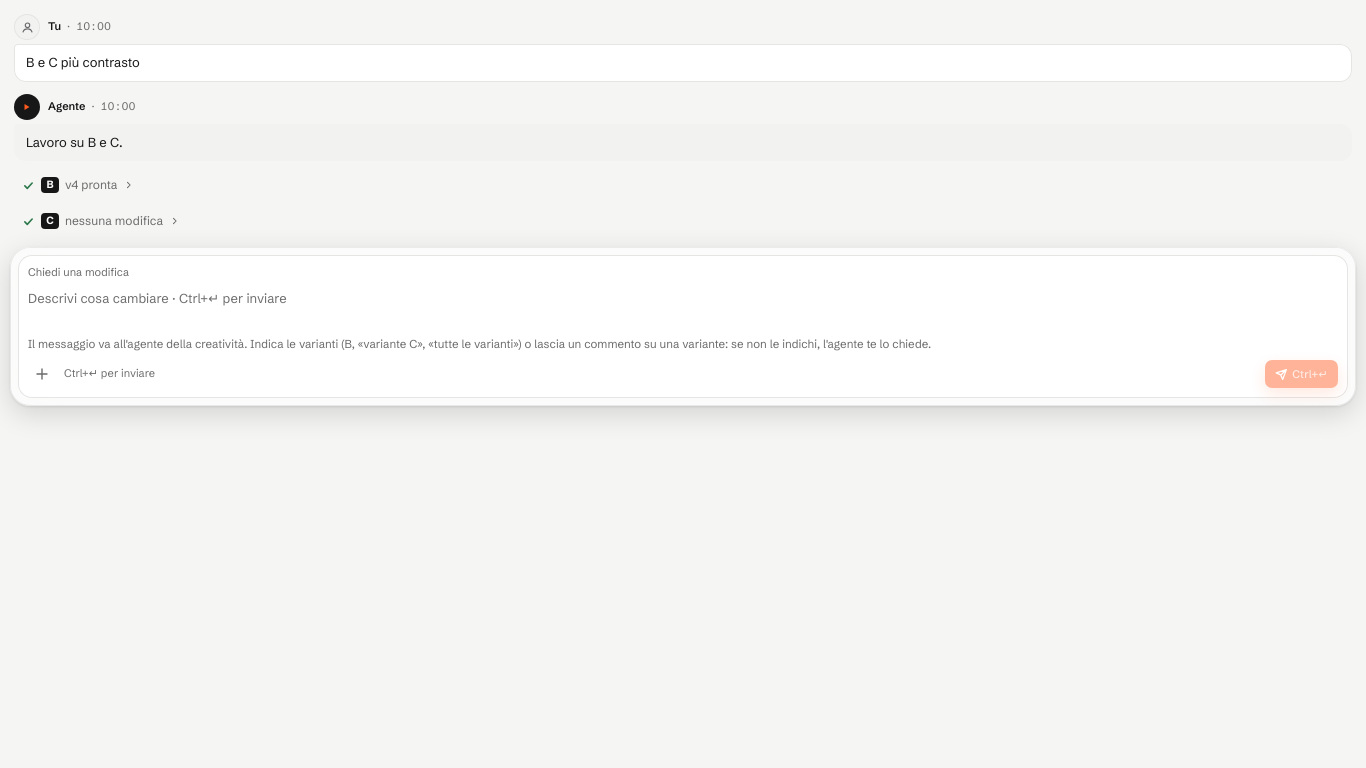
Test: the helpers' steps in the chat (decision 983) › one folded row per variant; a click opens its detailed steps
The width and height of the screenshot is (1366, 768).
Expected: the text "Contrasto di B aumentato" is not shown
Click the button "B v4 pronta" at (79,185), box 14,173 -> 143,197
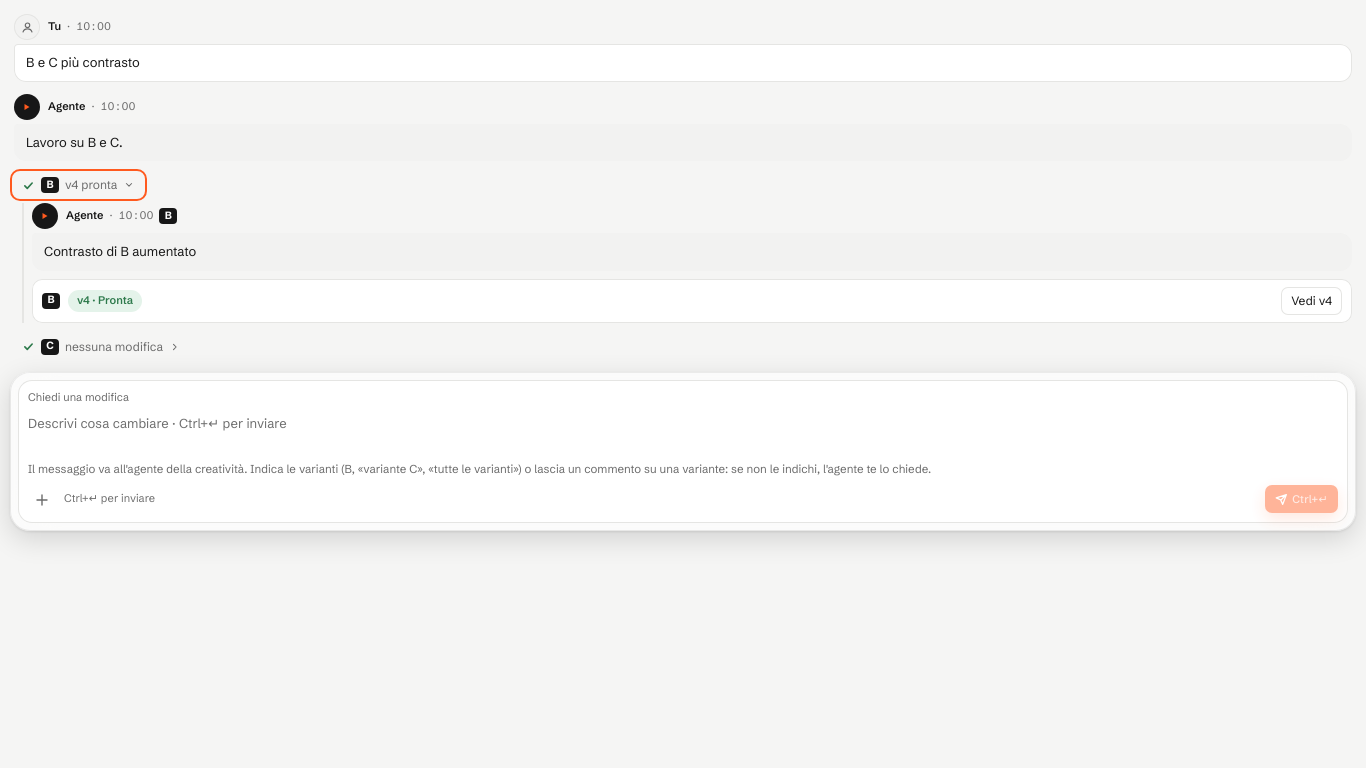
Expected: the text "Lavoro su B e C." is shown, 26,134 -> 123,150
Expected: the text "Contrasto di B aumentato" is shown, 44,243 -> 196,259
